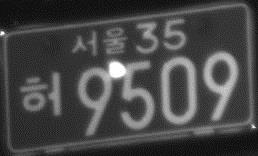0: (160, 55, 199, 126)
3: (132, 20, 160, 55)
5: (121, 60, 154, 131), (162, 16, 186, 52)
9: (201, 50, 241, 123), (75, 66, 115, 136)
서울_O: (71, 25, 129, 58)
허: (18, 71, 64, 116)
